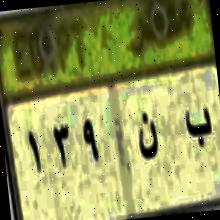1: (22, 118, 45, 179)
3: (49, 117, 74, 171)
9: (80, 115, 102, 172)
baa: (181, 96, 215, 152)
noon: (132, 102, 162, 164)
